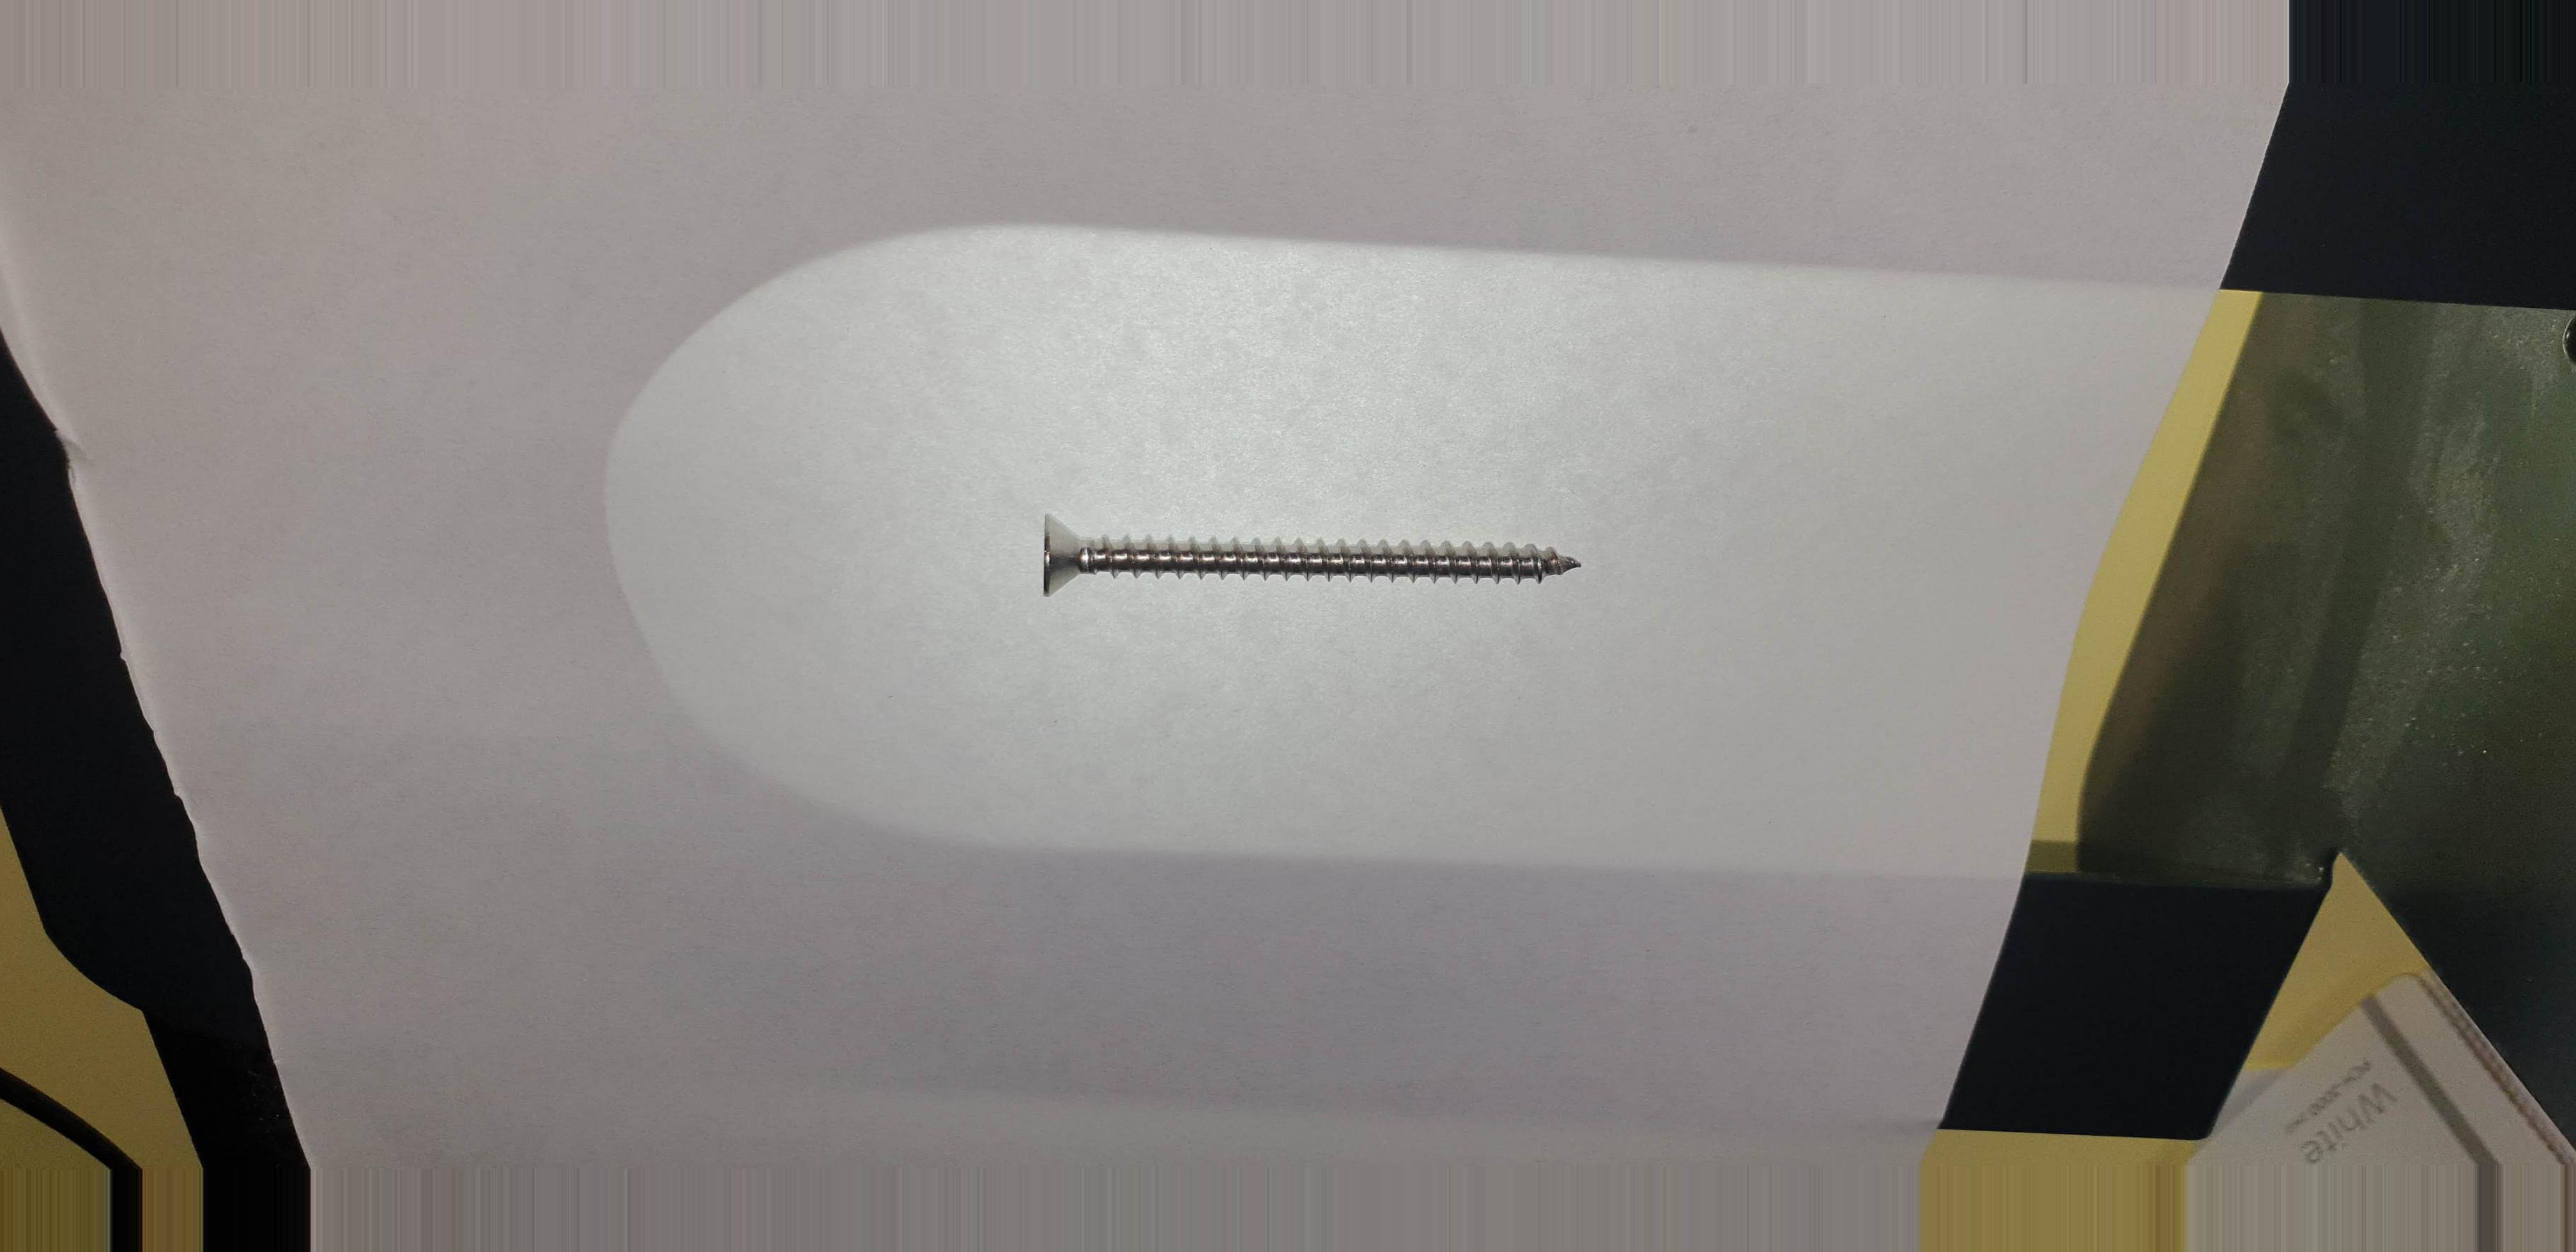fastener: (989, 472, 1671, 638)
